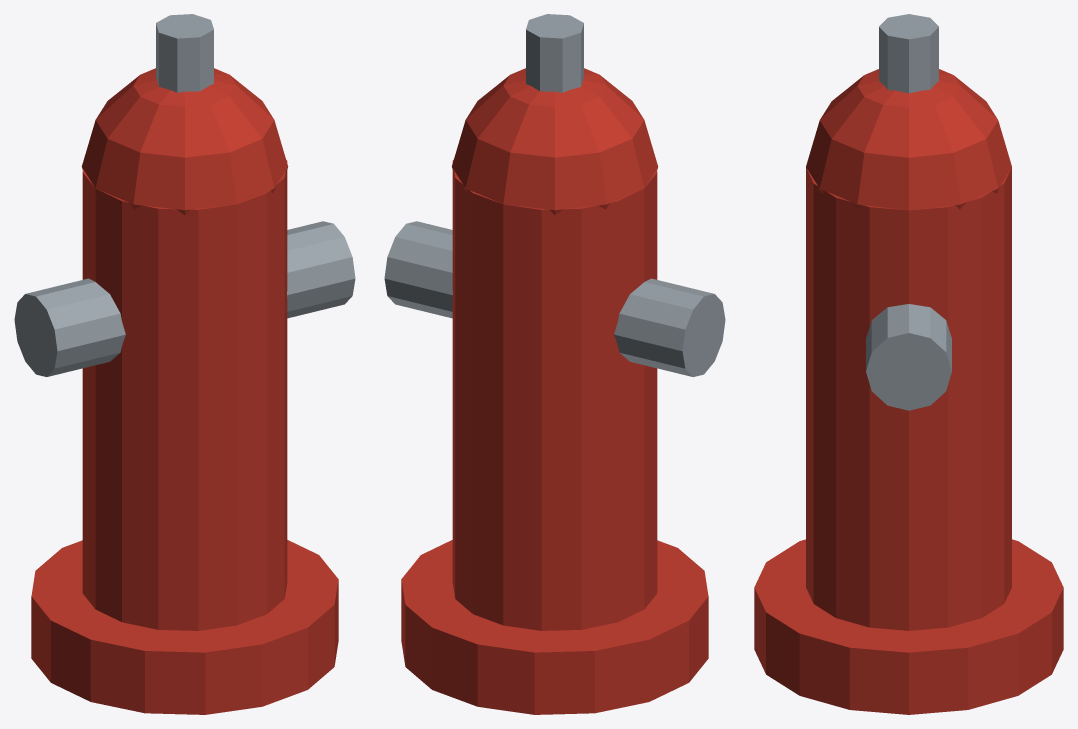
The model's file is hydrant.glb.
3 renders of one model, left to right at view 1: azimuth 30°, elevation 25°; view 2: azimuth 150°, elevation 25°; view 3: azimuth 270°, elevation 25°, orthographic.
Visible parts, largest first — view 1: Hydrant; view 2: Hydrant; view 3: Hydrant.
Part boxes in pixels (x1,y1,x2,y2): Hydrant: (14,14,355,714); Hydrant: (384,14,725,714); Hydrant: (754,14,1063,714).
Bounding box in the file's own units: 0.4 × 0.8 × 0.36.
